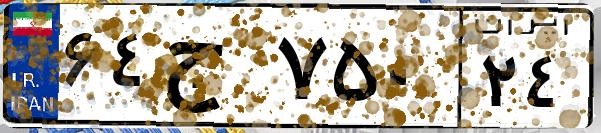0: (385, 28, 445, 110)
2: (475, 38, 525, 113)
4: (525, 38, 570, 115), (110, 28, 158, 98)
5: (330, 28, 385, 110)
6: (57, 26, 110, 100)
7: (270, 28, 330, 110)
ج: (158, 20, 270, 120)
